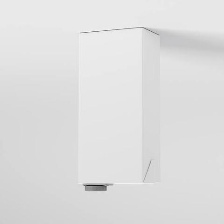carton: (74, 25, 167, 193)
